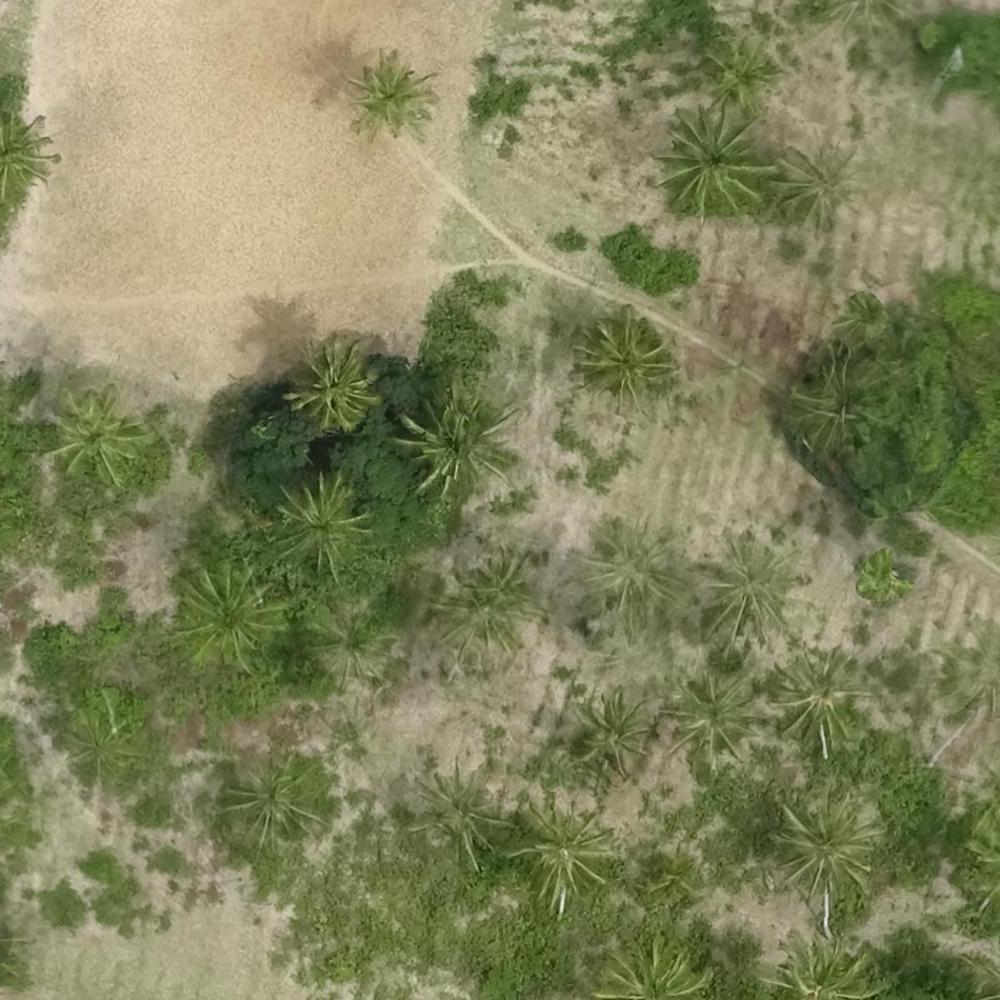Palm: (568, 522, 682, 639), (393, 383, 511, 496), (682, 528, 797, 641), (659, 107, 772, 216), (504, 795, 612, 909), (772, 792, 880, 899), (763, 652, 869, 760), (220, 750, 324, 856), (403, 757, 505, 864), (658, 671, 761, 767), (176, 565, 278, 661), (275, 473, 370, 576), (285, 335, 377, 436), (44, 390, 141, 485), (431, 558, 524, 654), (567, 685, 659, 782), (583, 307, 675, 401), (776, 139, 865, 230), (352, 55, 437, 139), (703, 34, 777, 111)
